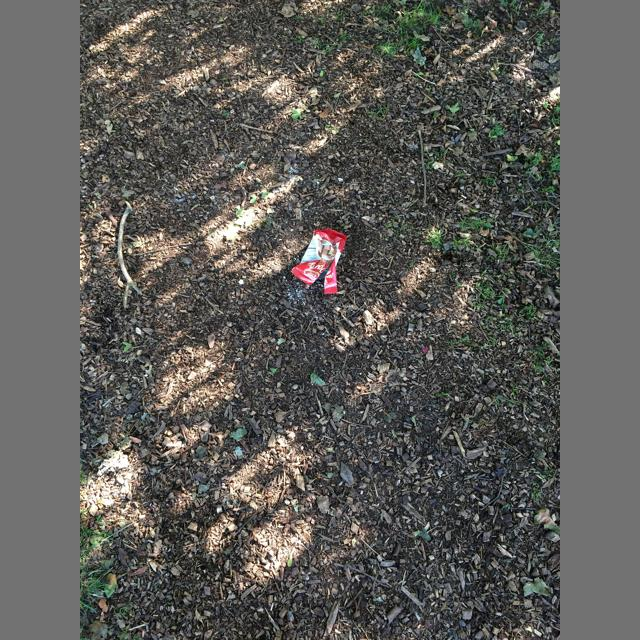litter: (291, 229, 347, 294)
